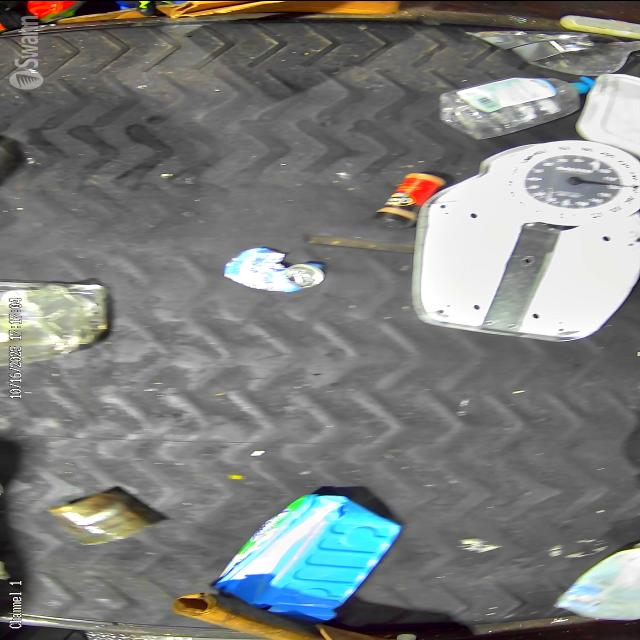can: (50, 480, 160, 548), (218, 238, 332, 298)
milk_jug: (553, 538, 640, 626)
non_white_jug: (209, 492, 409, 618)
plastic_bottle: (428, 65, 598, 139)
